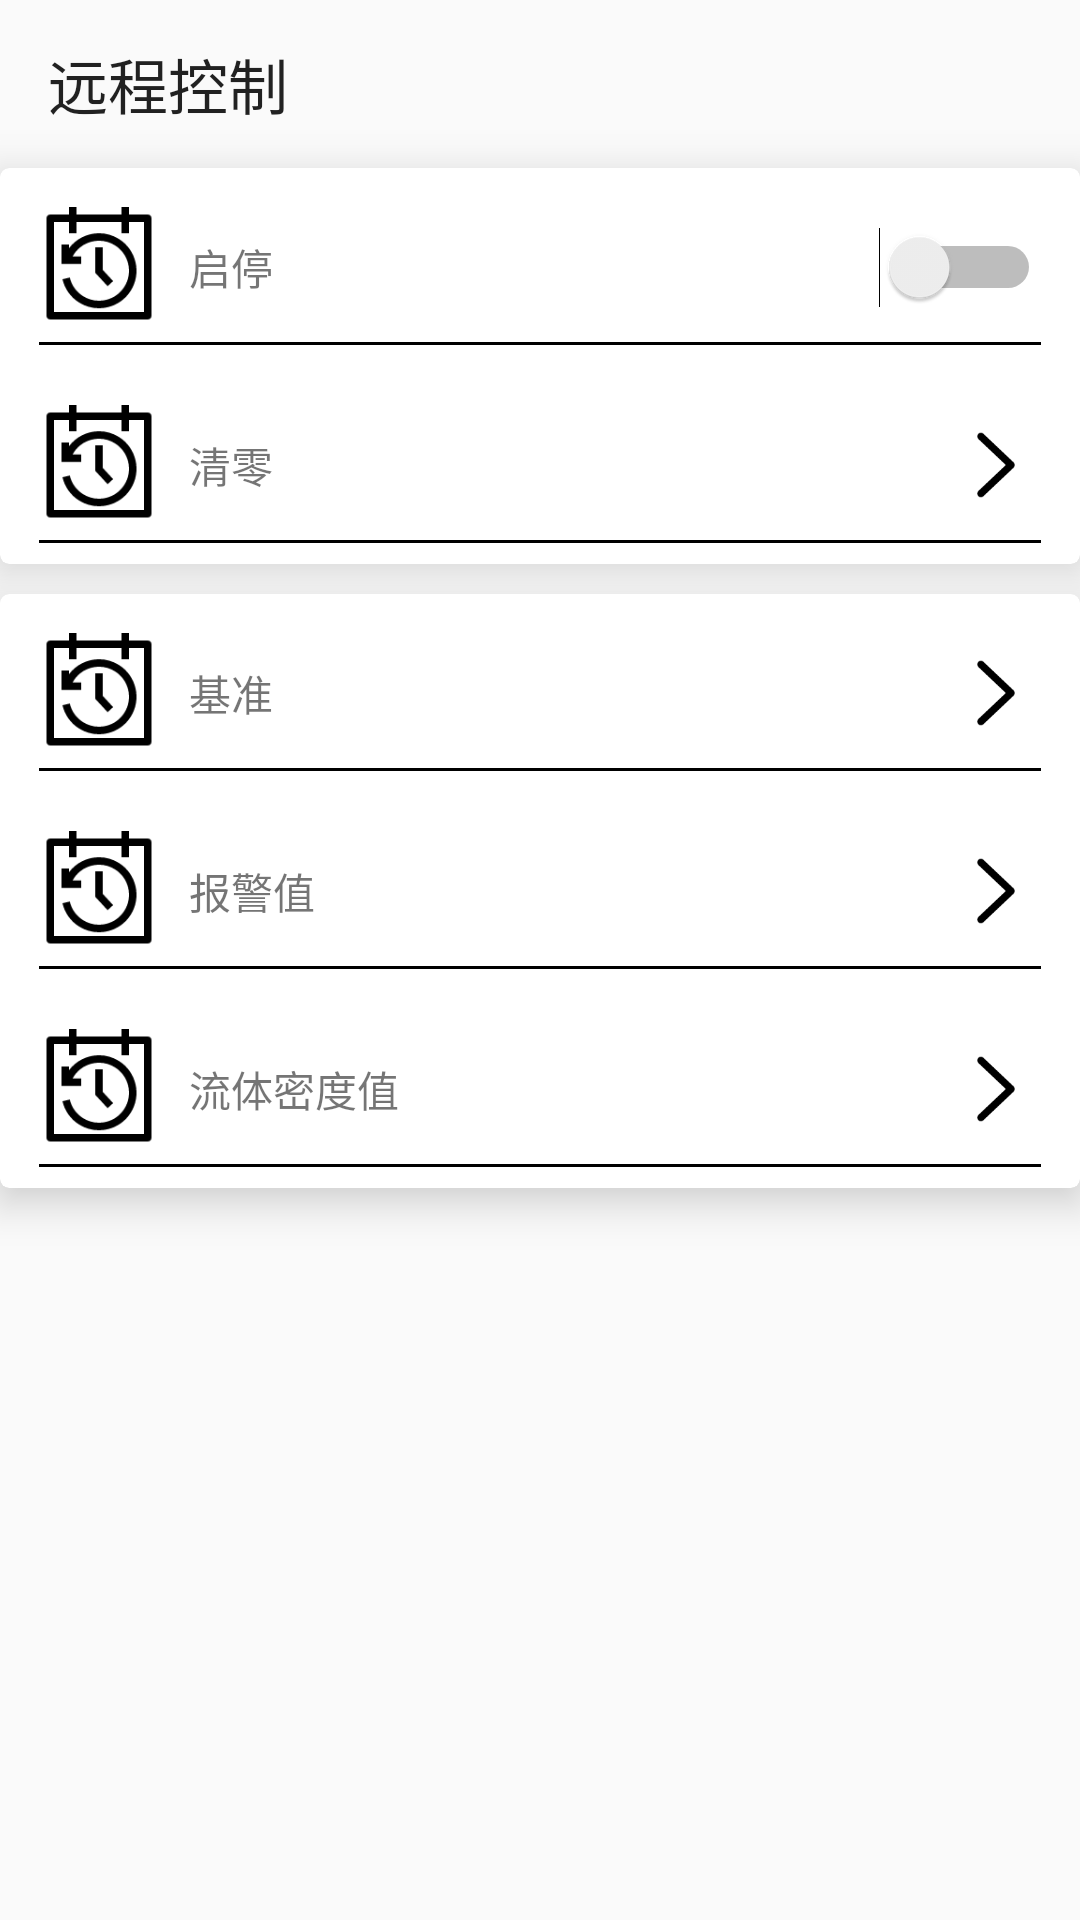

Where to tap for icons on this 1080 × 1920 app screen, as [x,y]:
lishi: [99,263], [99,461], [99,689], [99,887], [99,1085]
